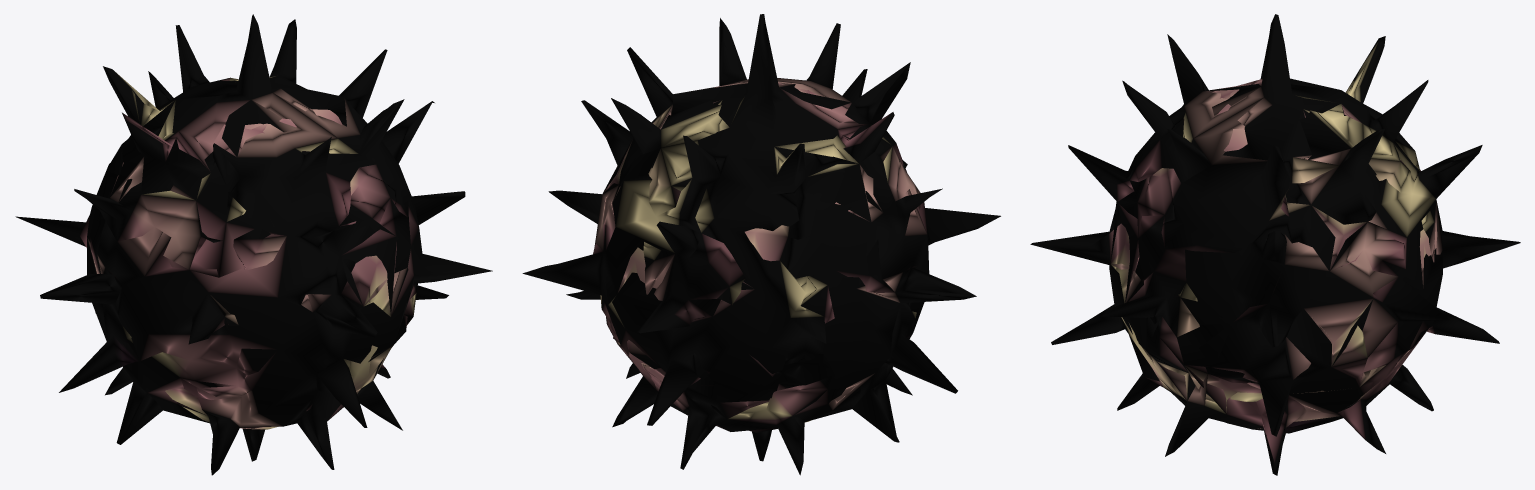
The model's file is gen3d-spiked-ball-lod0.glb.
The picture shows the model from 3 angles, left to right: view 1: azimuth 30°, elevation 25°; view 2: azimuth 150°, elevation 25°; view 3: azimuth 270°, elevation 25°; orthographic projection.
Parts seen in each view (by area): view 1: part_0; view 2: part_0; view 3: part_0.
Part boxes in pixels (left/top/right/bottom): part_0: left=15, top=14, right=492, bottom=475; part_0: left=522, top=14, right=1000, bottom=475; part_0: left=1030, top=14, right=1520, bottom=475.
Size of the model in its own units: 0.9985 by 0.9993 by 0.9986.
